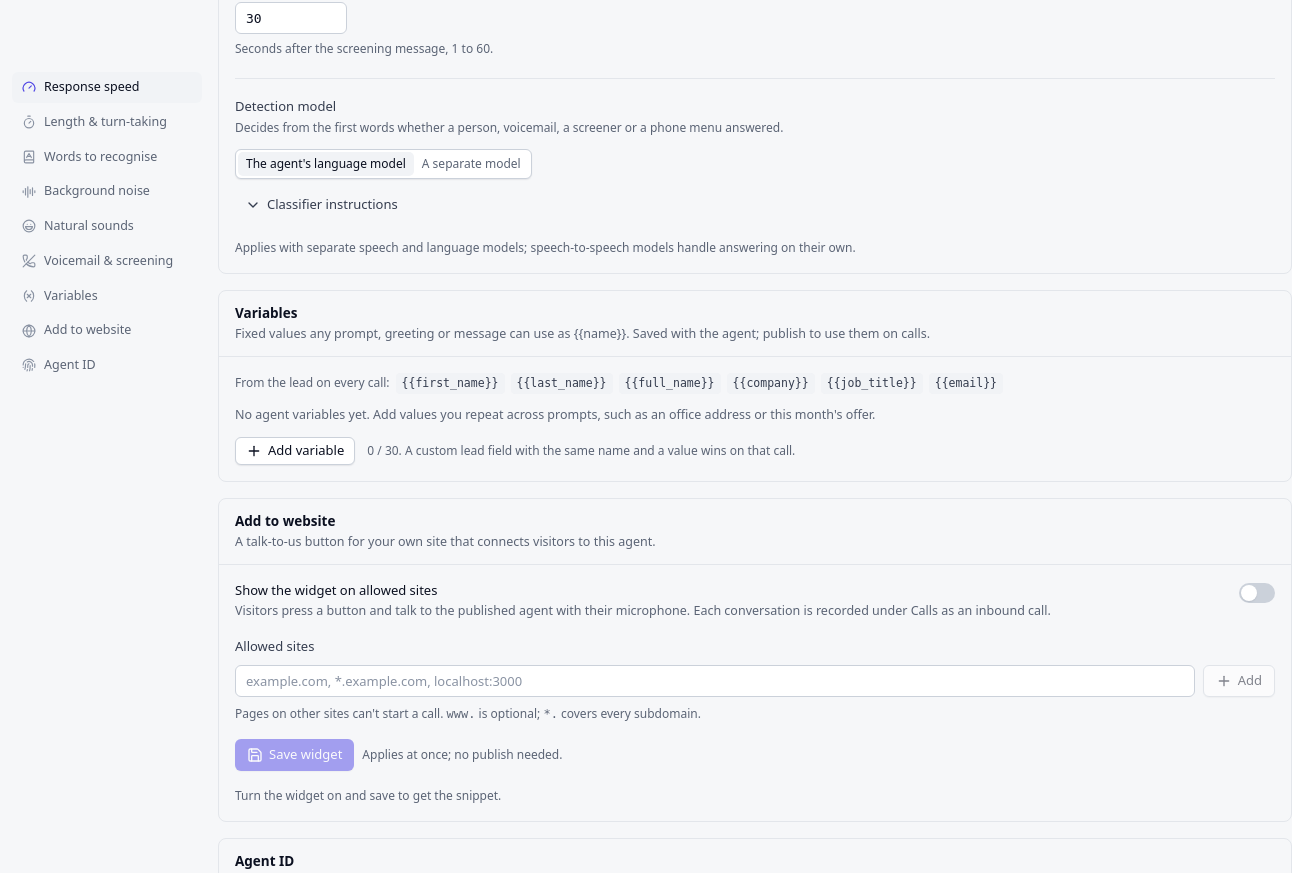
CallSettingsTab › validates agent variable names as they are typed
(page scrolled)
Click the button "Add variable".
click(295, 451)  # box left=235, top=437, right=355, bottom=465
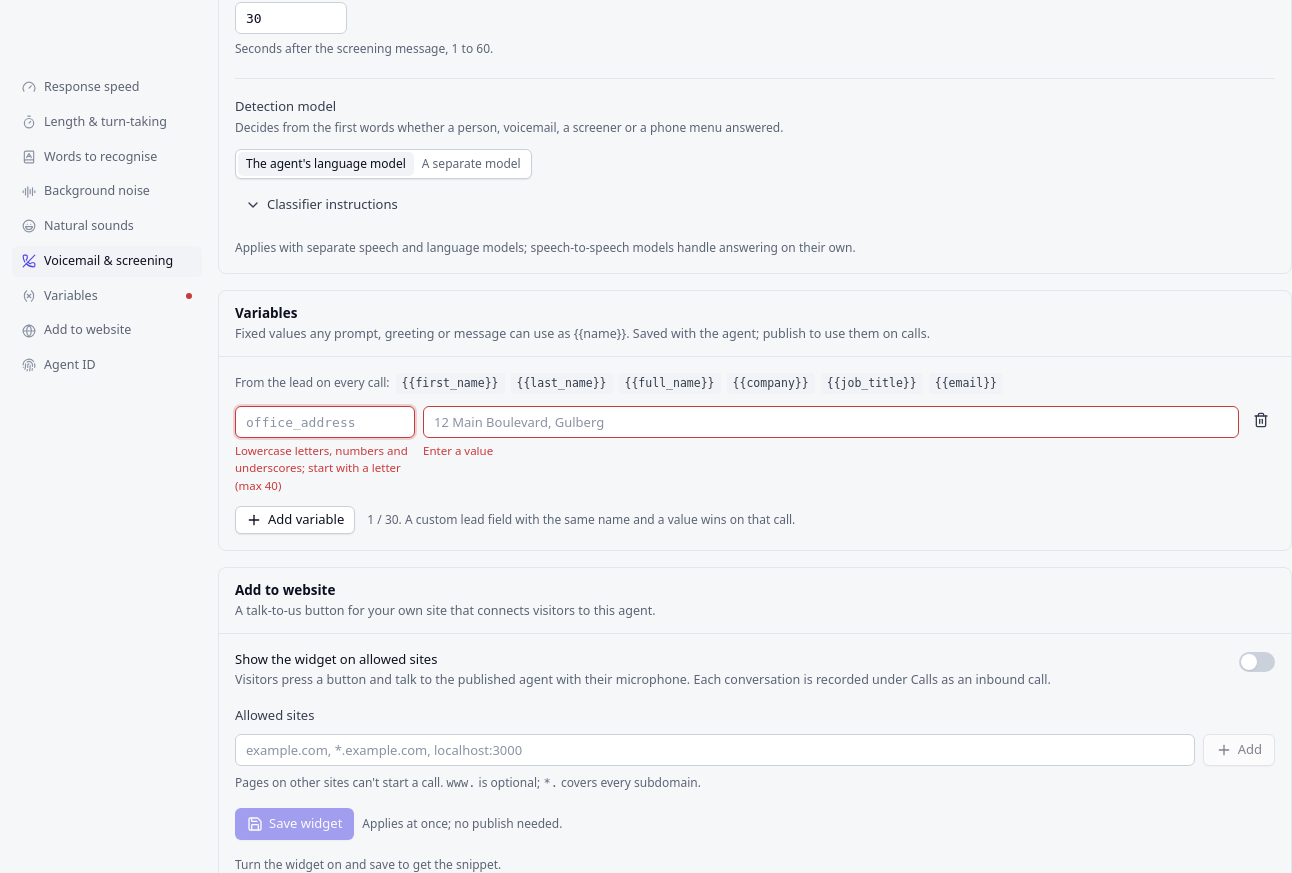
Type "first_name" into the field named "Variable 1 name".
click(325, 422); type("first_name")  # box left=235, top=406, right=415, bottom=438
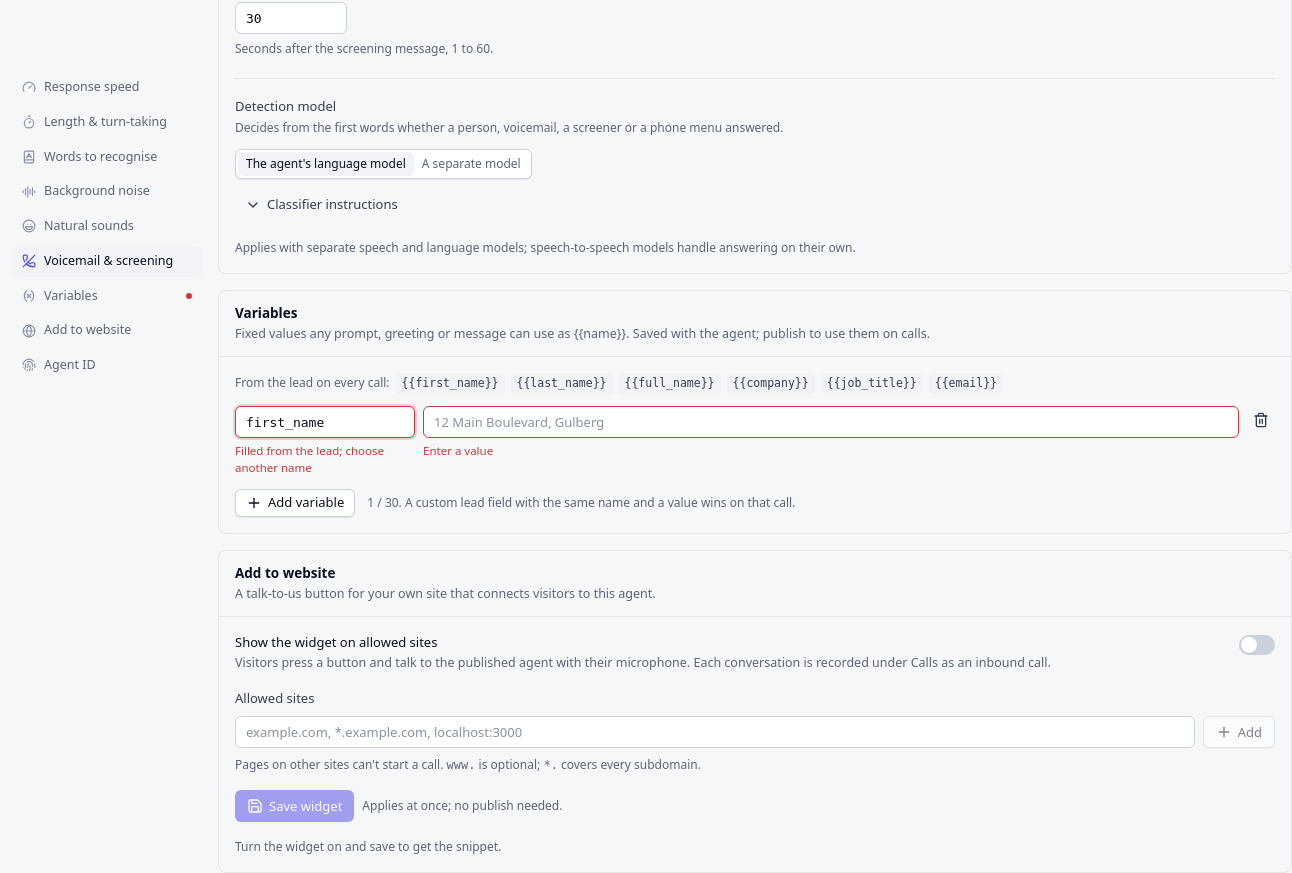
Type "Sam" into the field named "Variable 1 value".
click(831, 422); type("Sam")  # box left=423, top=406, right=1239, bottom=438
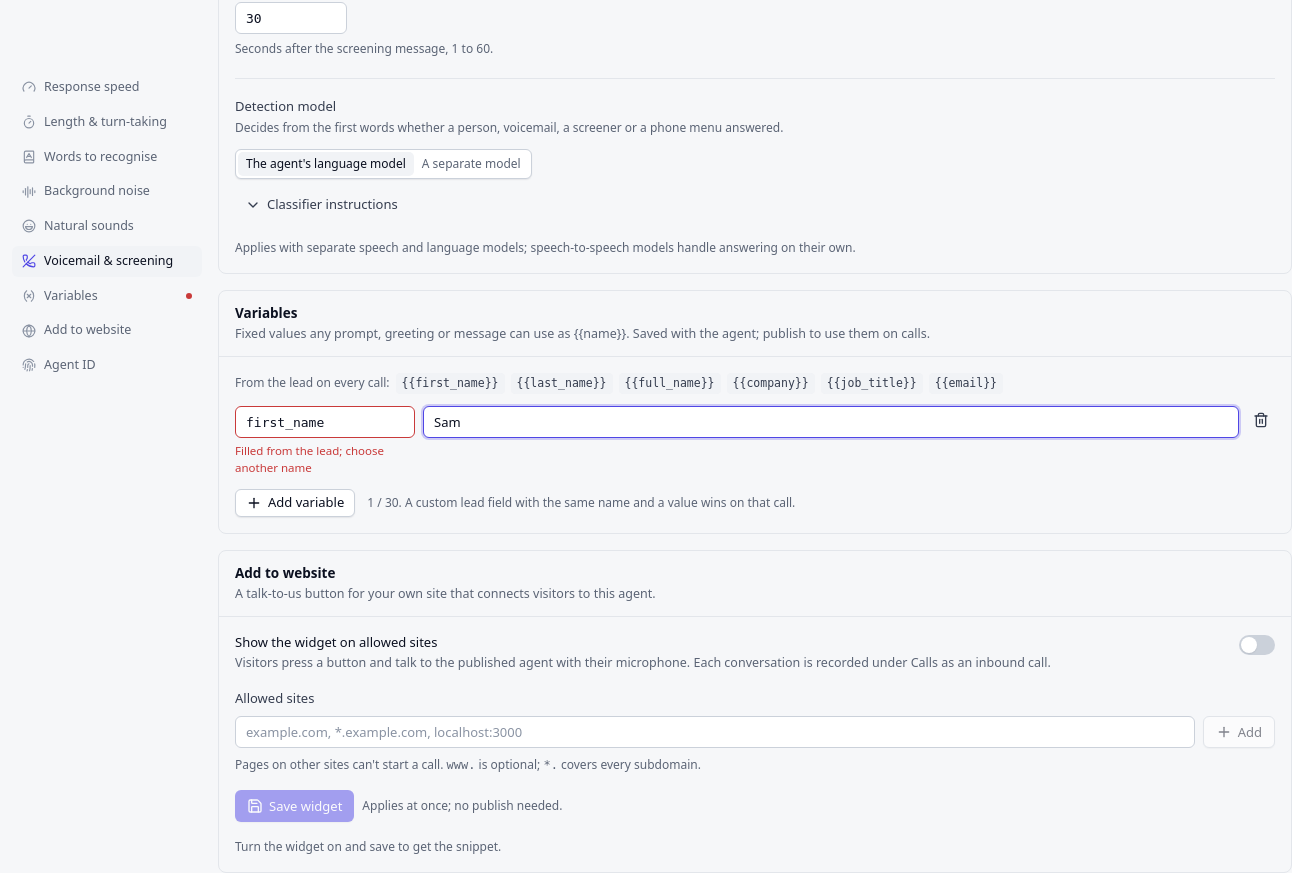
Result: the text "Filled from the lead; choose another name" is shown at left=235, top=443, right=384, bottom=475
Replace the text in the field named "Variable 1 name" with "office_name" at (325, 422), box left=235, top=406, right=415, bottom=438
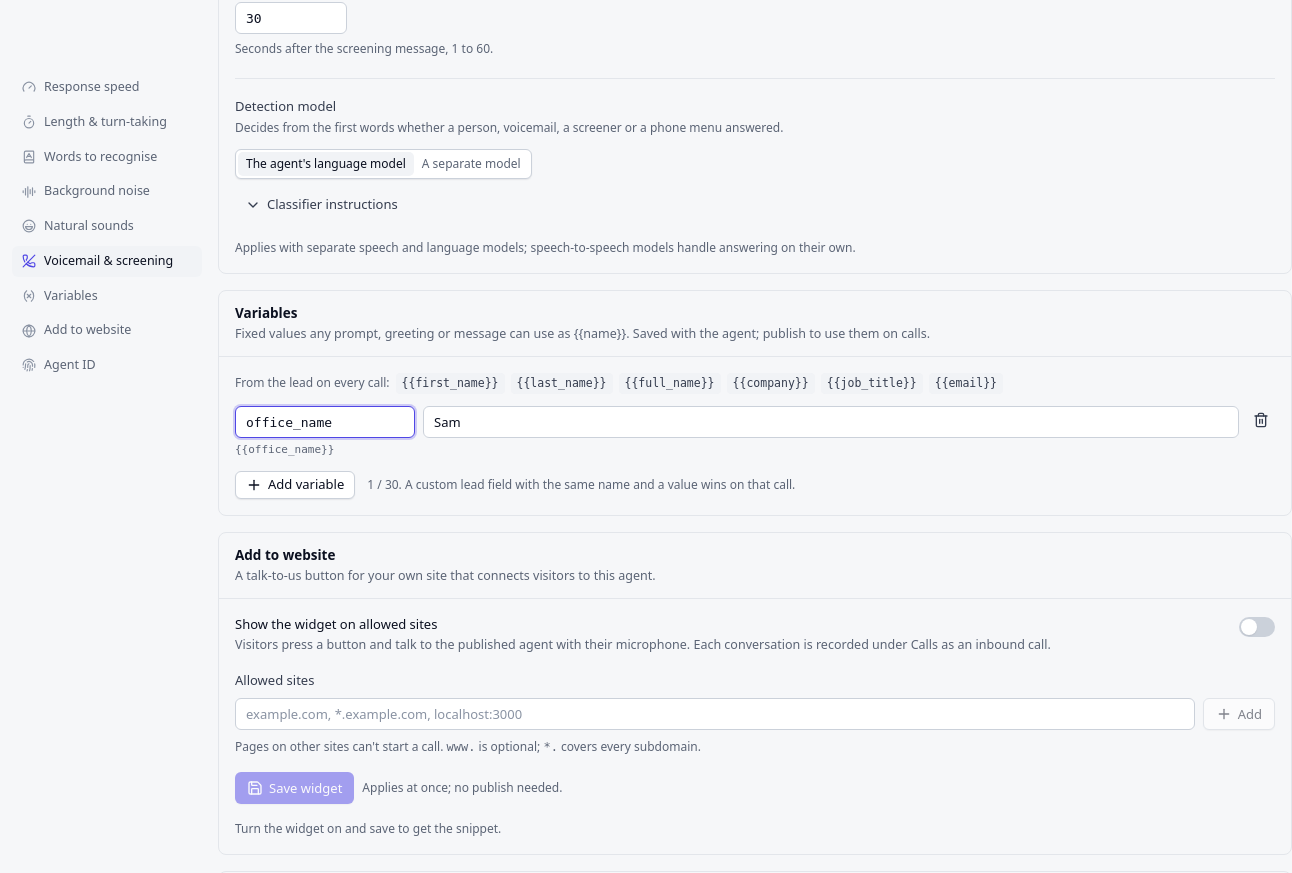
Expected: the text "choose another name" is not shown
Result: the text "{{office_name}}" is shown at left=235, top=443, right=334, bottom=456
